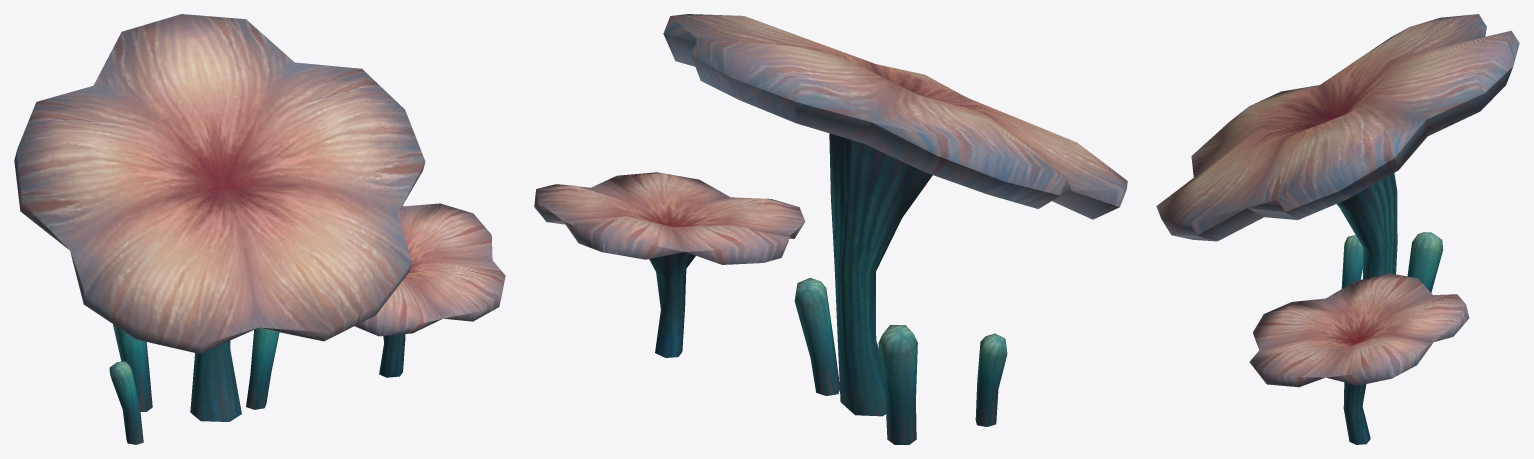
The model's file is caijiwu.FBX.
3 views of the same model, side by side, from view 1: azimuth 30°, elevation 25°; view 2: azimuth 150°, elevation 25°; view 3: azimuth 270°, elevation 25° (orthographic). The views are drawn at different scales.
Visible parts, largest first — view 1: UE122; view 2: UE122; view 3: UE122.
Part boxes in pixels (<box>): UE122: <box>14,14,505,444</box>; UE122: <box>534,14,1127,444</box>; UE122: <box>1156,14,1519,444</box>.
Bounding box in the file's own units: 1.64 × 1.17 × 1.18.
